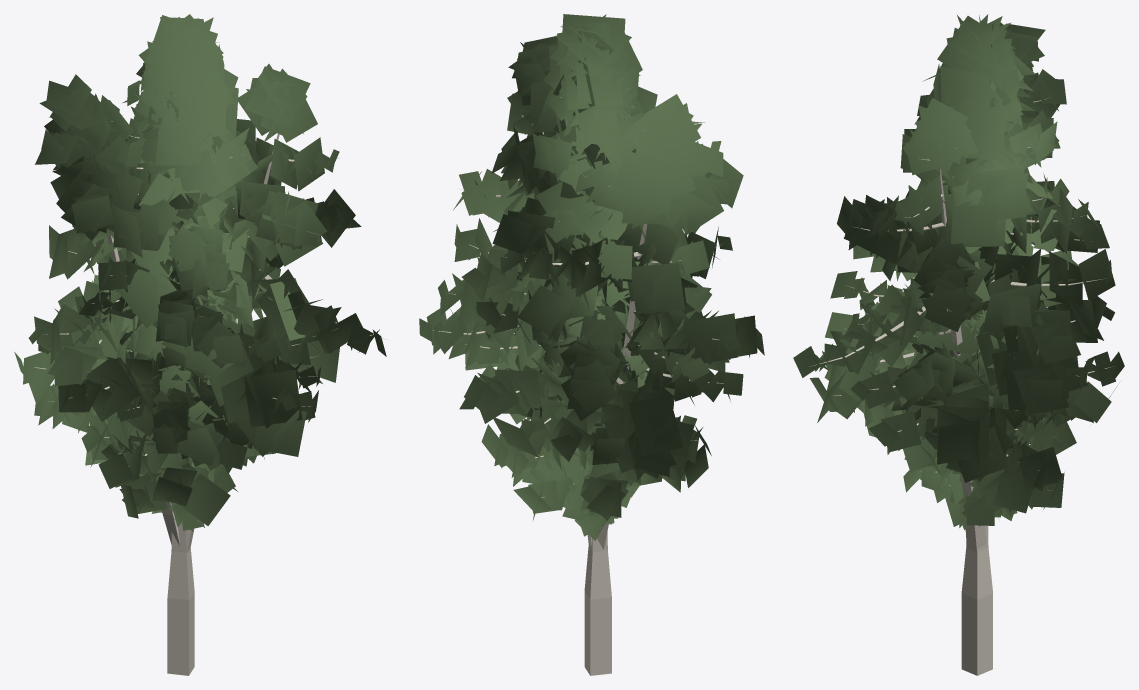
Rendered from Larch Trees.fbx.
The picture shows the model from 3 angles, left to right: view 1: azimuth 30°, elevation 25°; view 2: azimuth 150°, elevation 25°; view 3: azimuth 270°, elevation 25°; orthographic projection.
Visible parts, largest first — view 1: Larch 3, Larch 7, Larch 2, Larch 5, Larch 4, Larch 7 (Dead), Larch 6, Larch 1, Larch 3 (Dead); view 2: Larch 3, Larch 7, Larch 2, Larch 5, Larch 4, Larch 6, Larch 1, Larch 3 (Dead), Larch 7 (Dead); view 3: Larch 3, Larch 7, Larch 2, Larch 5, Larch 4, Larch 7 (Dead), Larch 6, Larch 3 (Dead).
Boxes of the visible parts, <box> form: Larch 3: <box>14,14,339,675</box>; Larch 7: <box>35,64,386,552</box>; Larch 2: <box>34,147,320,482</box>; Larch 5: <box>38,90,321,481</box>; Larch 4: <box>85,282,235,527</box>; Larch 7 (Dead): <box>75,191,340,546</box>; Larch 6: <box>101,351,237,531</box>; Larch 1: <box>116,215,237,466</box>; Larch 3 (Dead): <box>125,17,236,220</box>; Larch 3: <box>419,14,741,675</box>; Larch 7: <box>453,36,764,546</box>; Larch 2: <box>459,147,743,491</box>; Larch 5: <box>452,81,749,479</box>; Larch 4: <box>481,296,711,520</box>; Larch 6: <box>503,304,708,540</box>; Larch 1: <box>527,207,674,418</box>; Larch 3 (Dead): <box>550,24,636,202</box>; Larch 7 (Dead): <box>461,175,692,549</box>; Larch 3: <box>815,14,1117,675</box>; Larch 7: <box>793,22,1115,552</box>; Larch 2: <box>809,155,1114,504</box>; Larch 5: <box>825,116,1124,481</box>; Larch 4: <box>898,257,1076,526</box>; Larch 7 (Dead): <box>840,195,1075,367</box>; Larch 6: <box>924,318,1064,529</box>; Larch 3 (Dead): <box>942,23,1032,183</box>.
Size of what is drawn, in the model's own units: 2724 by 5577 by 2581.
